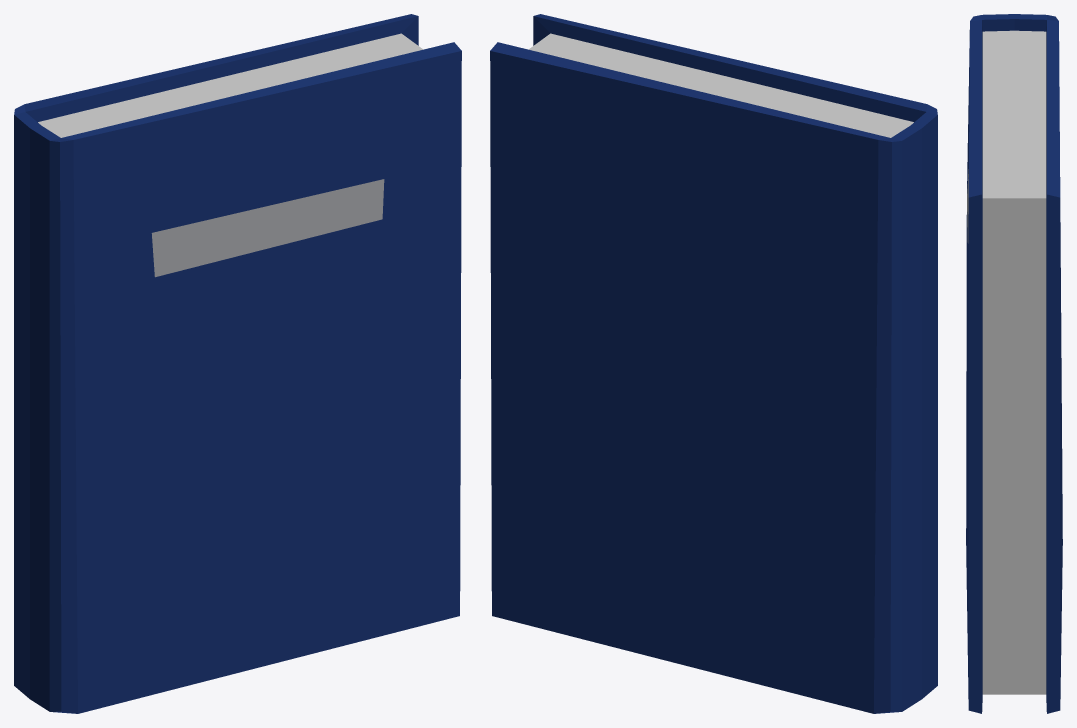
Rendered from Book_Blue.fbx.
3 renders of one model, left to right at view 1: azimuth 30°, elevation 25°; view 2: azimuth 150°, elevation 25°; view 3: azimuth 270°, elevation 25°, orthographic. The views are drawn at different scales.
Visible parts, largest first — view 1: Book_Blue; view 2: Book_Blue; view 3: Book_Blue.
Part boxes in pixels (left/top/right/bottom): Book_Blue: left=14, top=14, right=461, bottom=713; Book_Blue: left=490, top=14, right=937, bottom=713; Book_Blue: left=966, top=14, right=1062, bottom=713.
Bounding box in the file's own units: 22.5 × 30.29 × 5.09.
